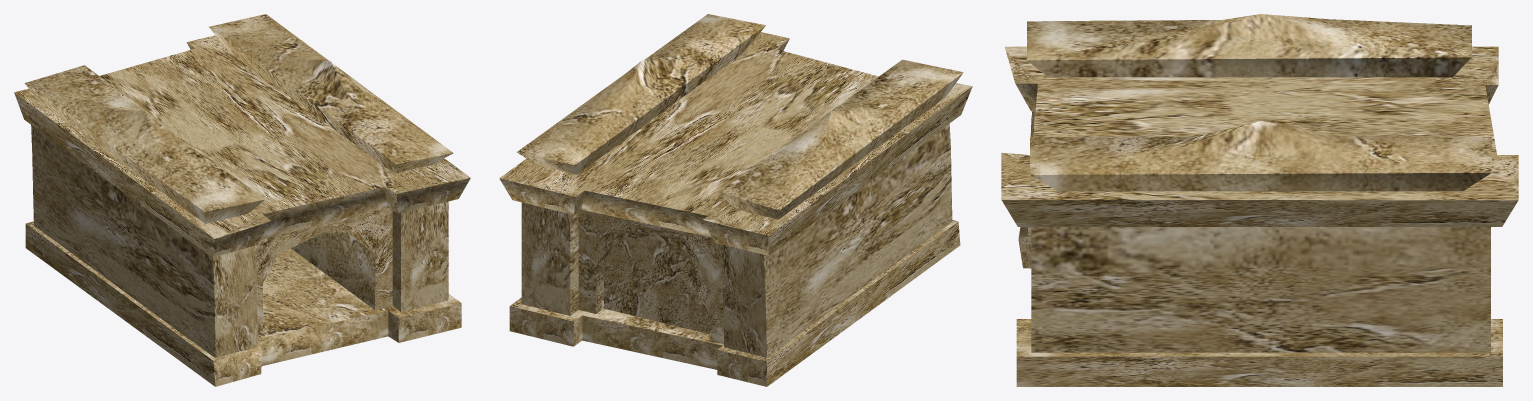
The model's file is pir_m_prp_cem_catacomb_1.fbx.
3 renders of one model, left to right at view 1: azimuth 30°, elevation 25°; view 2: azimuth 150°, elevation 25°; view 3: azimuth 270°, elevation 25°, orthographic. The views are drawn at different scales.
Visible parts, largest first — view 1: trim_right, column_left_short, trim_right1, columnCap_left_short, columnCap_right_short, wall_arches1, column_right_short; view 2: trim_right, column_left_short, trim_right1, columnCap_left_short, columnCap_right_short, wall_arches2, wall_arches1, column_right_short; view 3: column_right_short, trim_right, columnCap_right_short, columnCap_left_short, trim_right1.
Part boxes in pixels (<box>): trim_right: <box>14,35,470,257</box>; column_left_short: <box>31,125,257,357</box>; trim_right1: <box>25,221,461,386</box>; columnCap_left_short: <box>24,65,264,223</box>; columnCap_right_short: <box>209,14,453,173</box>; wall_arches1: <box>255,207,392,335</box>; column_right_short: <box>392,201,448,311</box>; trim_right: <box>499,32,972,255</box>; column_left_short: <box>721,123,952,357</box>; trim_right1: <box>509,220,960,386</box>; columnCap_left_short: <box>718,59,963,219</box>; columnCap_right_short: <box>517,14,765,174</box>; wall_arches2: <box>604,236,709,334</box>; wall_arches1: <box>578,210,723,343</box>; column_right_short: <box>521,202,578,315</box>; column_right_short: <box>1031,227,1490,352</box>; trim_right: <box>1001,46,1518,226</box>; columnCap_right_short: <box>1030,121,1491,191</box>; columnCap_left_short: <box>1027,14,1471,77</box>; trim_right1: <box>1016,227,1502,386</box>.
Size of the model in its own units: 780 by 588 by 1108.
1 material, 1 textured.
